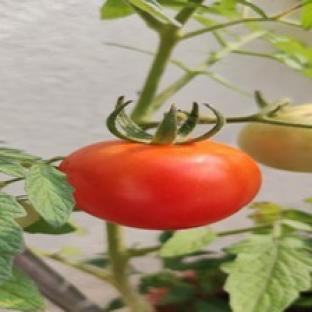Tomato: (60, 141, 260, 229), (239, 123, 311, 172), (16, 201, 40, 228)
